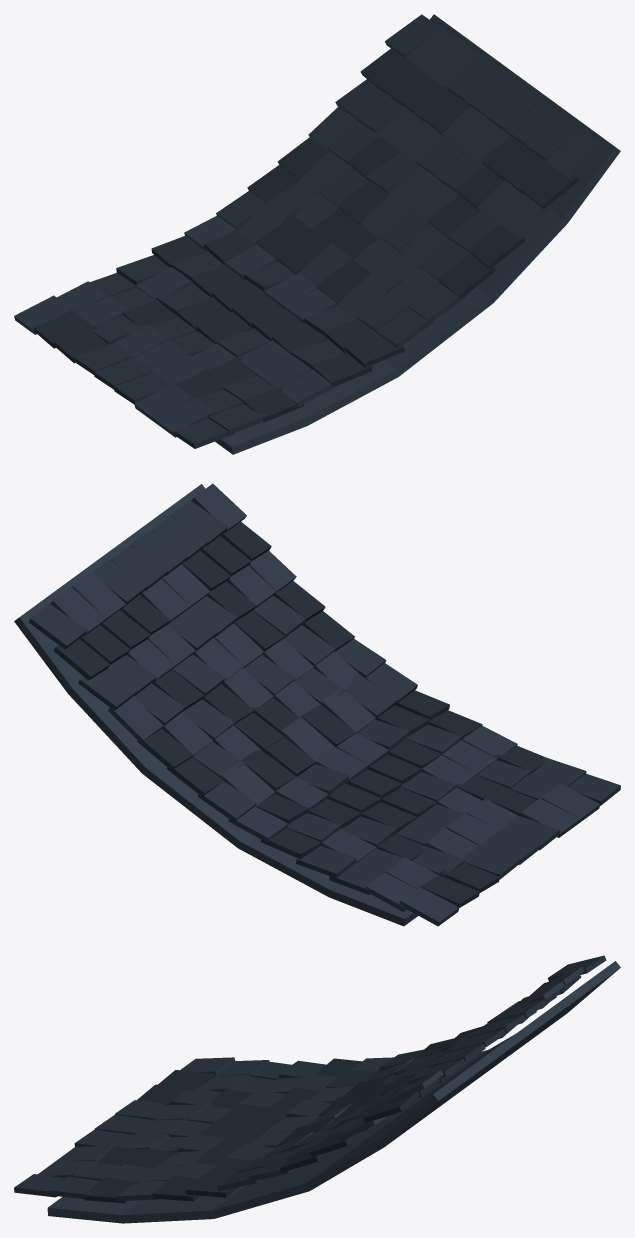
The model's file is Roof_Tile04_JP.fbx.
The picture shows the model from 3 angles, top to bottom: view 1: azimuth 30°, elevation 25°; view 2: azimuth 150°, elevation 25°; view 3: azimuth 330°, elevation 25°; orthographic projection.
Parts seen in each view (by area): view 1: Roof_Tile04_JP_LOD0; view 2: Roof_Tile04_JP_LOD0; view 3: Roof_Tile04_JP_LOD0.
Boxes of the visible parts, x1=… form: Roof_Tile04_JP_LOD0: x1=14, y1=14, x2=620, y2=454; Roof_Tile04_JP_LOD0: x1=14, y1=483, x2=620, y2=926; Roof_Tile04_JP_LOD0: x1=14, y1=955, x2=620, y2=1223.
Size of what is drawn, in the model's own units: 535 by 264 by 400.
